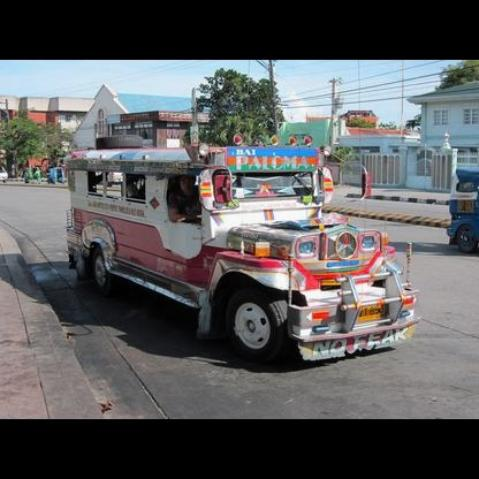jeepney: (53, 122, 424, 380)
